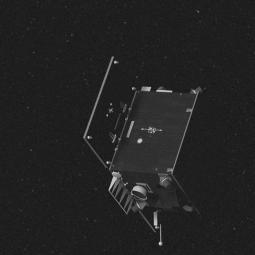proba_2: (106, 55, 204, 238)
